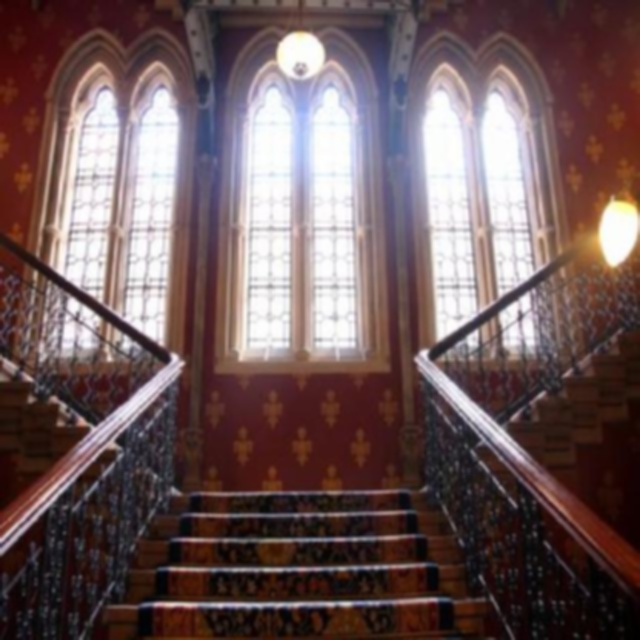stair: (105, 489, 494, 640), (0, 352, 182, 494), (477, 326, 640, 443)
